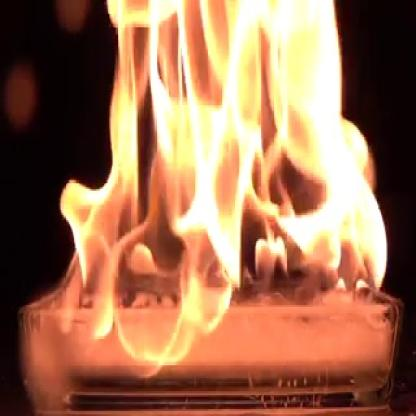fire: (56, 0, 392, 377)
